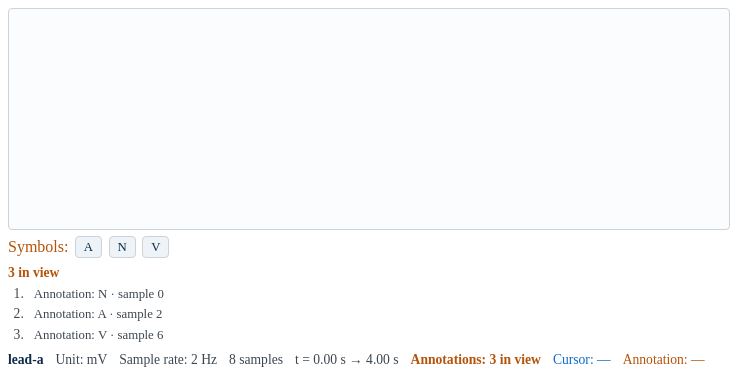
Test: TimeSeriesView (jsdom slice) › multi-symbol legend selection (Phase 17 item 2) › shows the union of several pressed symbols, in window order
Click the button "V" at (156, 247), box 142,236 -> 169,258
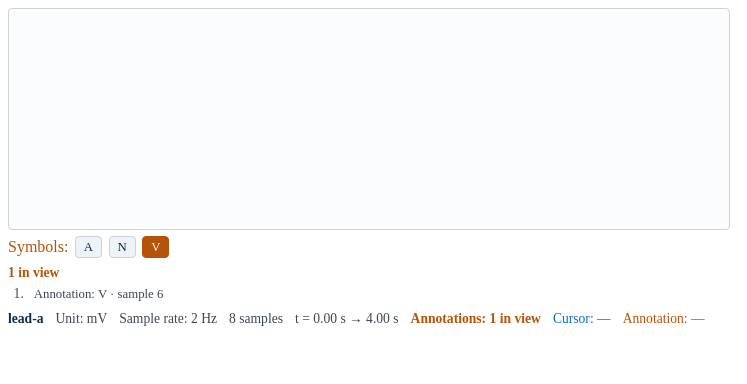
Click the button "A" at (89, 247), box 75,236 -> 102,258
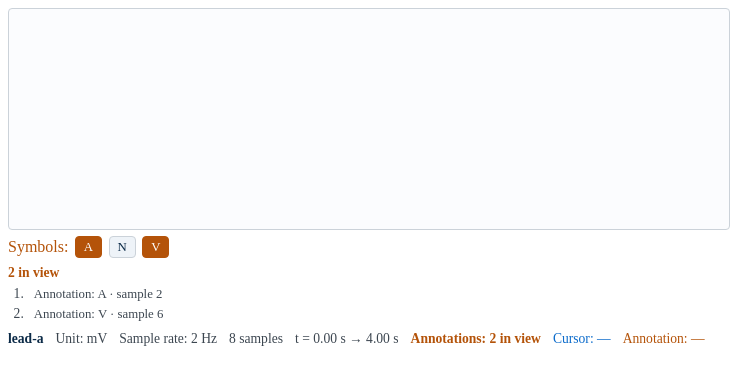
Expected: the text "Annotations: 2 in view" is shown, 411,331 -> 541,347
